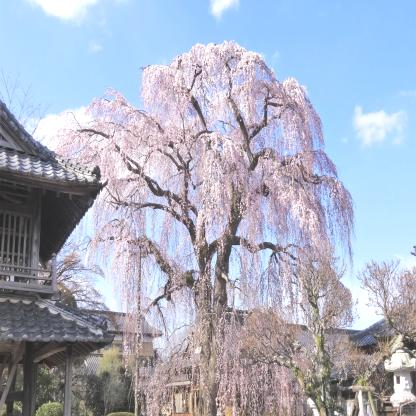ShidareZakura: (44, 39, 358, 416)
